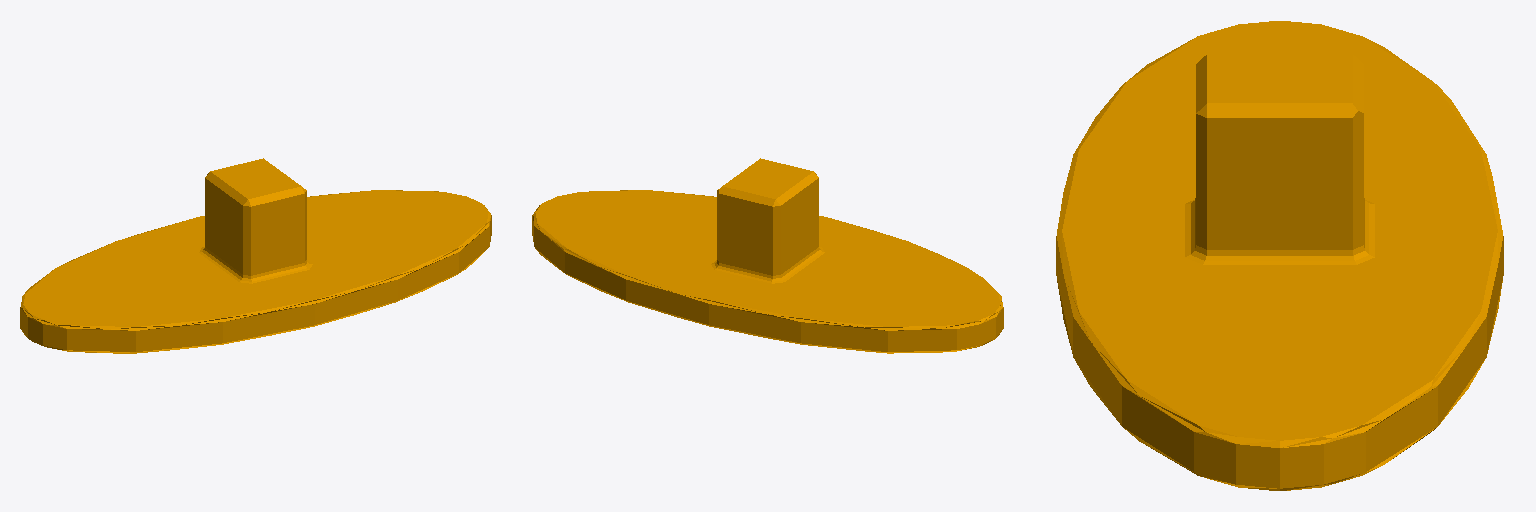
The robot description file, URDF, robot "form":
<?xml version="1.0" ?>
<robot name="form" xmlns:xacro="http://www.ros.org/wiki/xacro">
    <link name="form">
		<collision>
			<geometry>
				<mesh filename="package://world_pkg/meshes/form.dae" scale="0.001 0.001 0.001"/>
			</geometry>
		</collision>
		<visual>
			<geometry>
				<mesh filename="package://world_pkg/meshes/form.dae" scale="0.001 0.001 0.001"/>
			</geometry>
		</visual>
		<inertial>
			<origin xyz="0 0 0" rpy="0 0 0"/>
			<mass value="0.2"/>
			<inertia
				ixx="0.00008" ixy="0.0" ixz="0.0"
				iyy="0.0003" iyz="0.0"
				izz="0.0004"/>
		</inertial>
    </link>
    <gazebo reference="form">
    <collision name="form_collision">
      <surface>
        <friction>
          <torsional>
            <coefficient>10.0</coefficient>
            <use_patch_radius>true</use_patch_radius>
            <patch_radius>0.05</patch_radius>
          </torsional>
        </friction>
        <contact>
          <poissons_ratio>0.5</poissons_ratio>
          <elastic_modulus>1e8</elastic_modulus>
        </contact>
      </surface>
    </collision>
        <material>Gazebo/Green</material> 
        <kp>10000.0</kp>
        <kd>10000.0</kd>
        <mu1>1000.0</mu1>
        <mu2>1000.0</mu2>
        <minDepth>0.001</minDepth>  
        <maxVel>0</maxVel>
    </gazebo>
</robot>

--- Render facts (derived) ---
Views: 3 orthographic renders of the robot side by side, from view 1: azimuth 30°, elevation 25°; view 2: azimuth 150°, elevation 25°; view 3: azimuth 270°, elevation 25°.
Model form with 1 links and 0 joints (none), rooted at form, posed all joints at 0.
Visible links, largest first — view 1: form; view 2: form; view 3: form.
Boxes of the visible links, x1=… form: form: x1=20, y1=158, x2=491, y2=353; form: x1=532, y1=158, x2=1003, y2=353; form: x1=1056, y1=21, x2=1503, y2=490.
Bounding box of the posed robot: 0.18 × 0.08 × 0.04 m (x, y, z).
1 mesh visuals loaded from 1 distinct referenced files (1 Collada DAE).